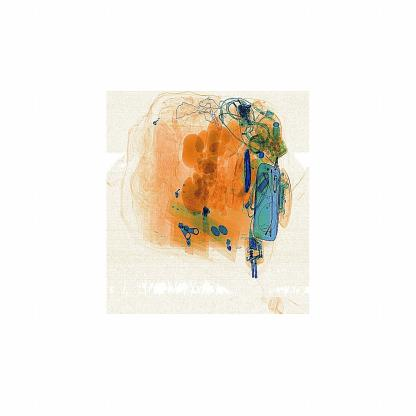knife: (240, 143, 260, 191)
